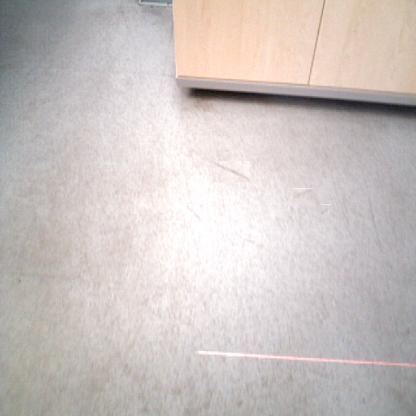mark: (212, 160, 250, 182), (185, 204, 203, 223), (293, 188, 313, 199), (322, 204, 332, 215), (15, 276, 21, 284)
